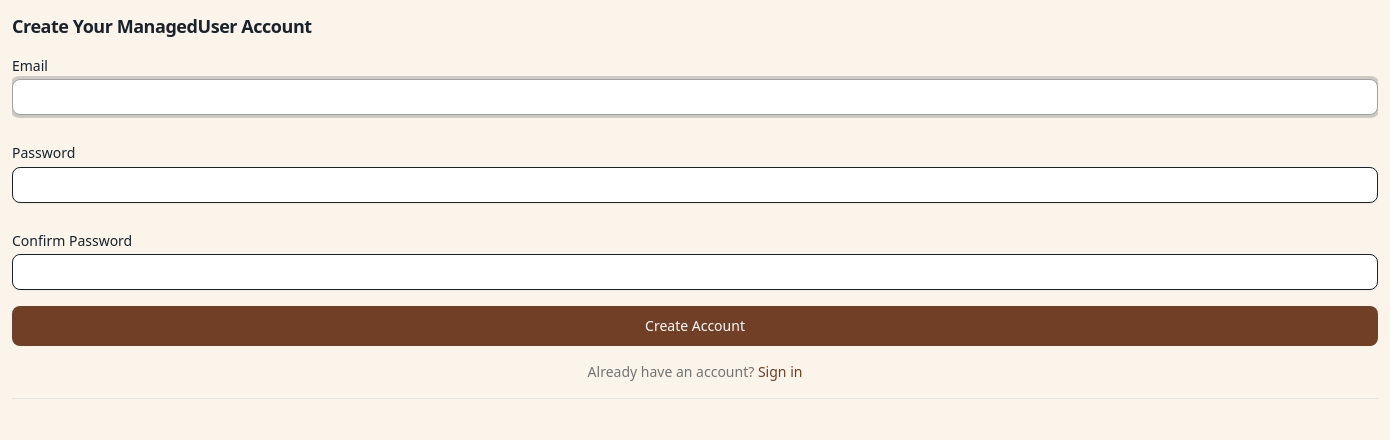
Scenario: CreateAccountForm › should show error when password is too short
This screenshot has width=1390, height=440.
Step 1. Type "test@example.com" into the field named "email" → (695, 97), box [12,79,1378,115]
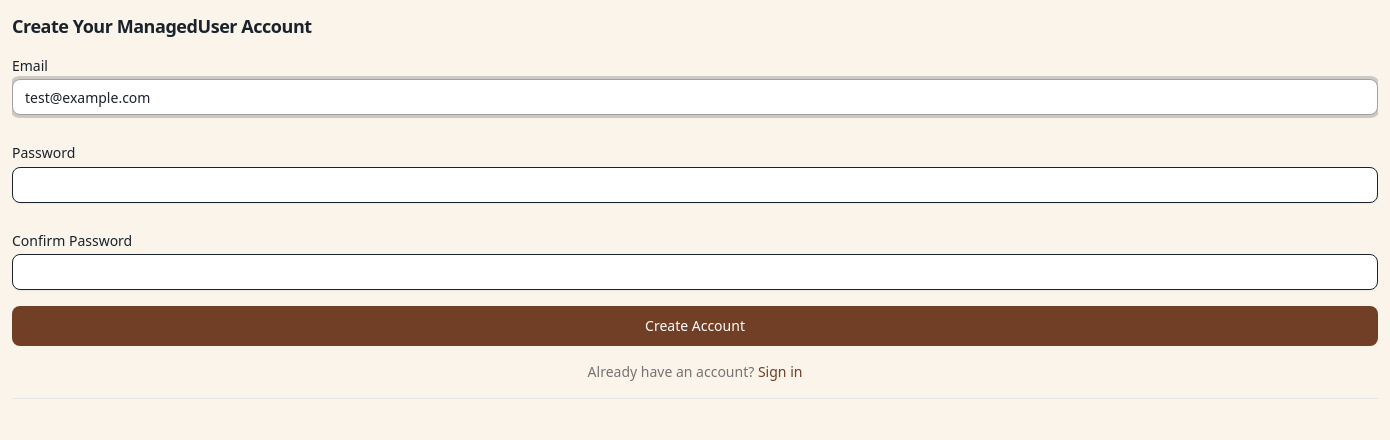
Step 2. Type "Short1!" into the password field named "password" → (695, 185), box [12,167,1378,203]
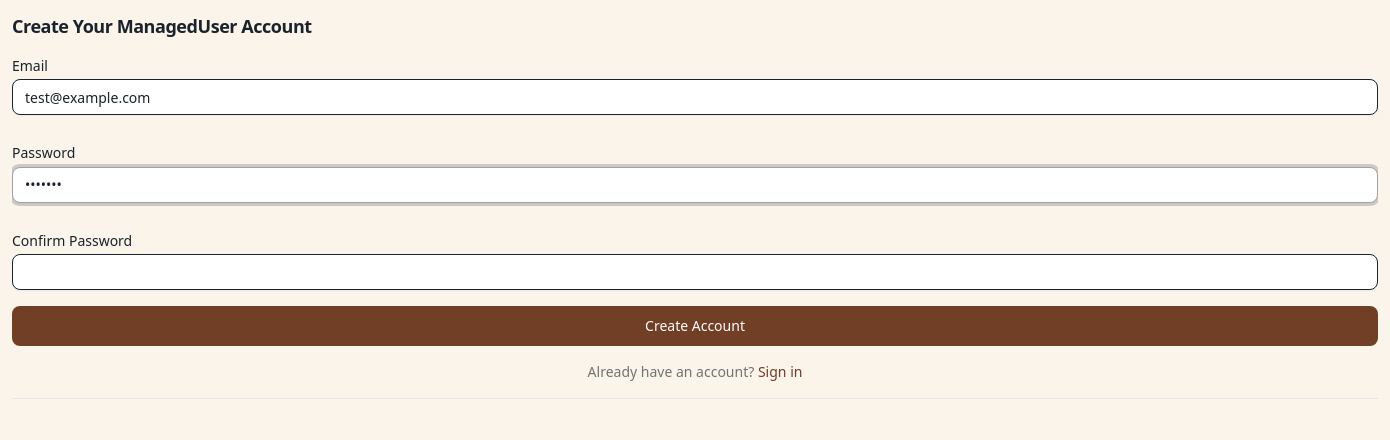
Step 3. Type "Short1!" into the password field named "confirmPassword" → (695, 272), box [12,254,1378,290]
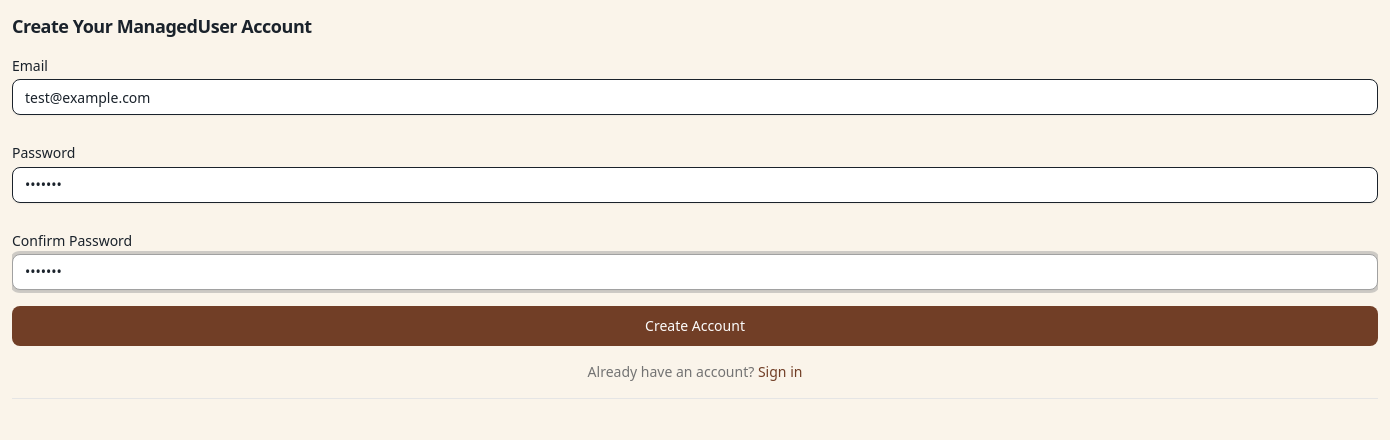
Step 4. Click the submit button → (695, 326), box [12,306,1378,346]
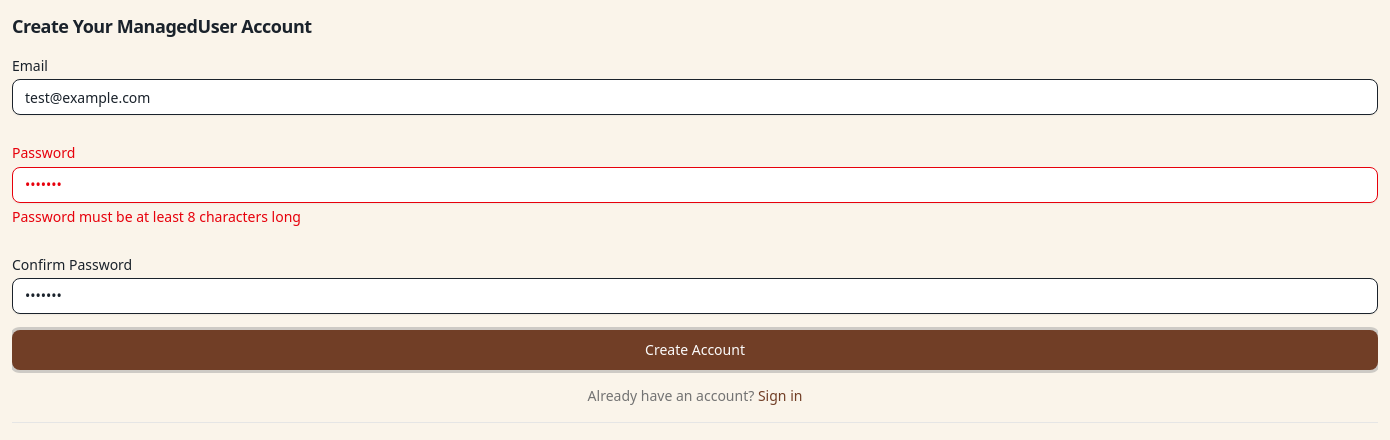
Check: the message with test id "error-message-password" reads "Password must be at least 8 characters long", box [12,207,301,226]
